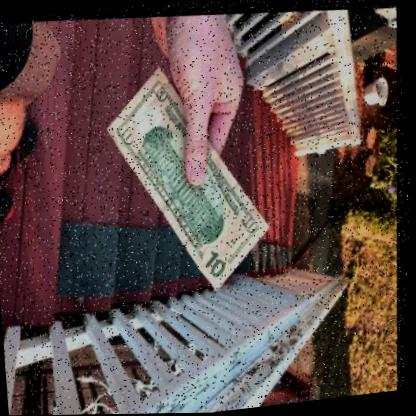ten-back: (108, 64, 273, 289)
